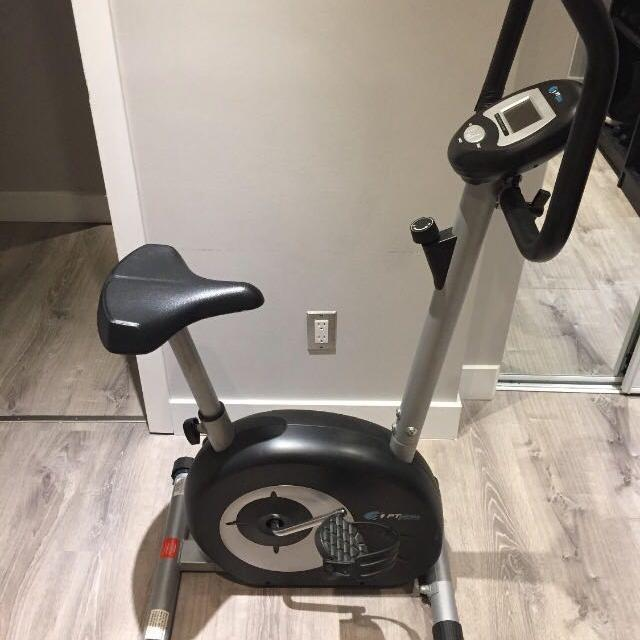gym_bike: (86, 24, 598, 635)
